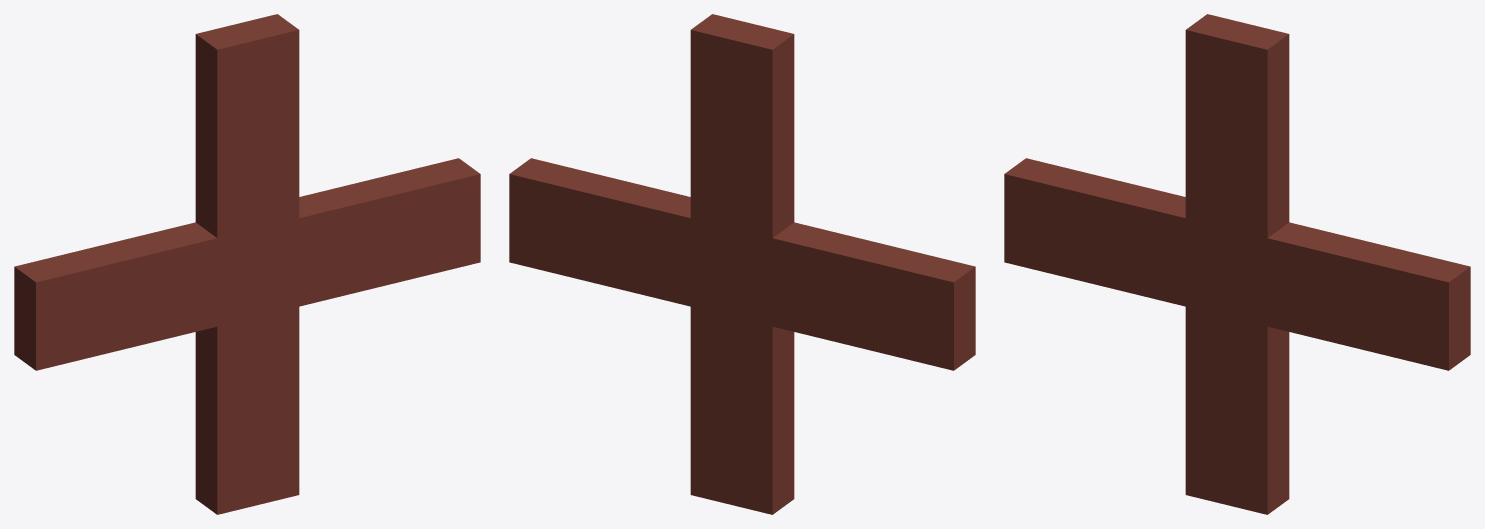
The model's file is Health_red.fbx.
3 renders of one model, left to right at view 1: azimuth 30°, elevation 25°; view 2: azimuth 150°, elevation 25°; view 3: azimuth 330°, elevation 25°, orthographic.
Visible parts, largest first — view 1: Health; view 2: Health; view 3: Health.
Part boxes in pixels (x1=…): Health: x1=14, y1=14, x2=480, y2=514; Health: x1=509, y1=14, x2=975, y2=514; Health: x1=1004, y1=14, x2=1470, y2=514.
Bounding box in the file's own units: 3.19 × 3.19 × 0.27.
